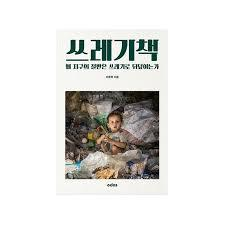book: (54, 28, 174, 194)
